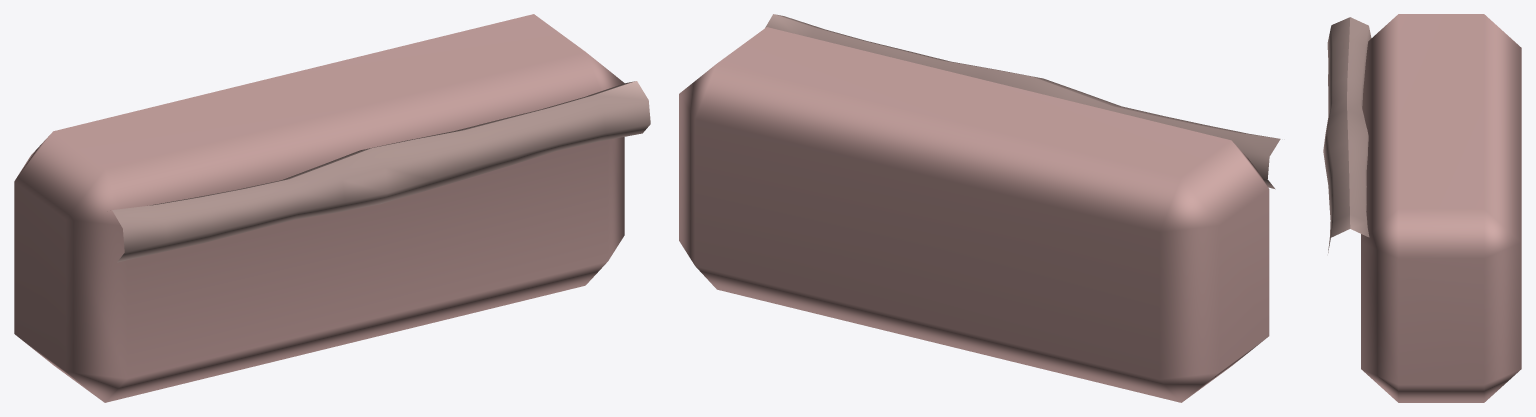
File: swollen-step.glb
3 renders of one model, left to right at view 1: azimuth 30°, elevation 25°; view 2: azimuth 150°, elevation 25°; view 3: azimuth 270°, elevation 25°, orthographic. The views are drawn at different scales.
Visible parts, largest first — view 1: body; view 2: body; view 3: body.
Boxes of the visible parts, left/top/right/bottom form: body: left=14, top=14, right=650, bottom=402; body: left=679, top=14, right=1280, bottom=402; body: left=1323, top=14, right=1521, bottom=402.
Bounding box in the file's own units: 1 × 0.3999 × 0.3704.
